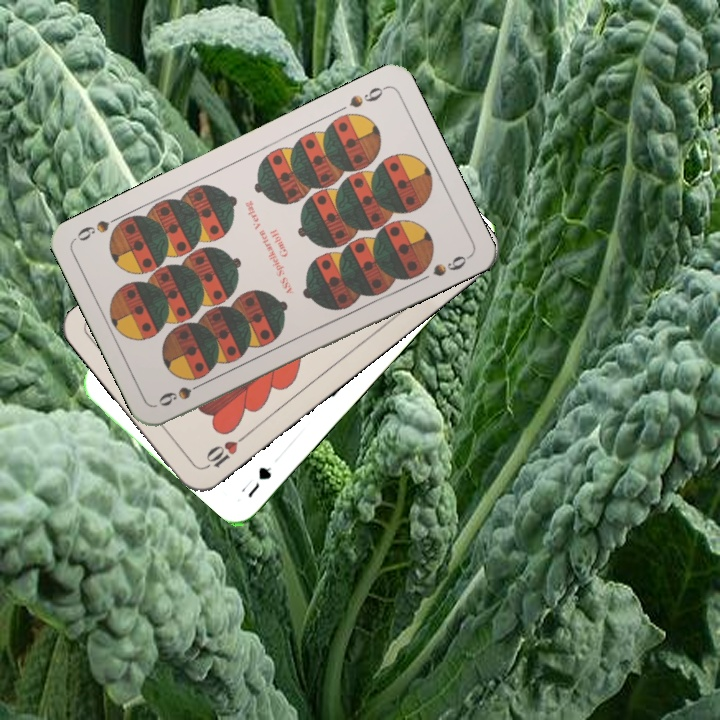GU: (236, 462, 275, 501)
H10: (200, 429, 251, 471)
S9: (154, 376, 210, 409), (345, 82, 389, 111)
